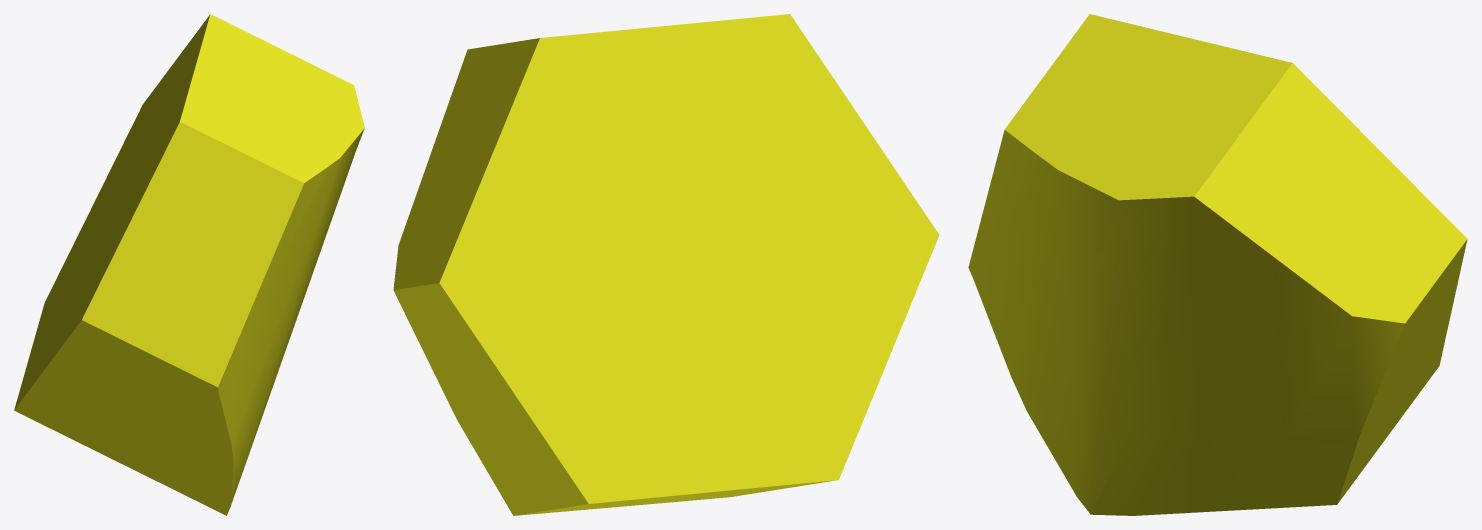
Rendered from octagon.fbx.
The picture shows the model from 3 angles, left to right: view 1: azimuth 30°, elevation 25°; view 2: azimuth 150°, elevation 25°; view 3: azimuth 270°, elevation 25°; orthographic projection. The views are drawn at different scales.
Parts seen in each view (by area): view 1: octagon.001; view 2: octagon.001; view 3: octagon.001.
Part boxes in pixels (x1,y1,x2,y2): octagon.001: (14, 14, 364, 515); octagon.001: (393, 14, 939, 515); octagon.001: (968, 14, 1467, 515).
Size of the model in its own units: 99.2 by 121 by 112.
